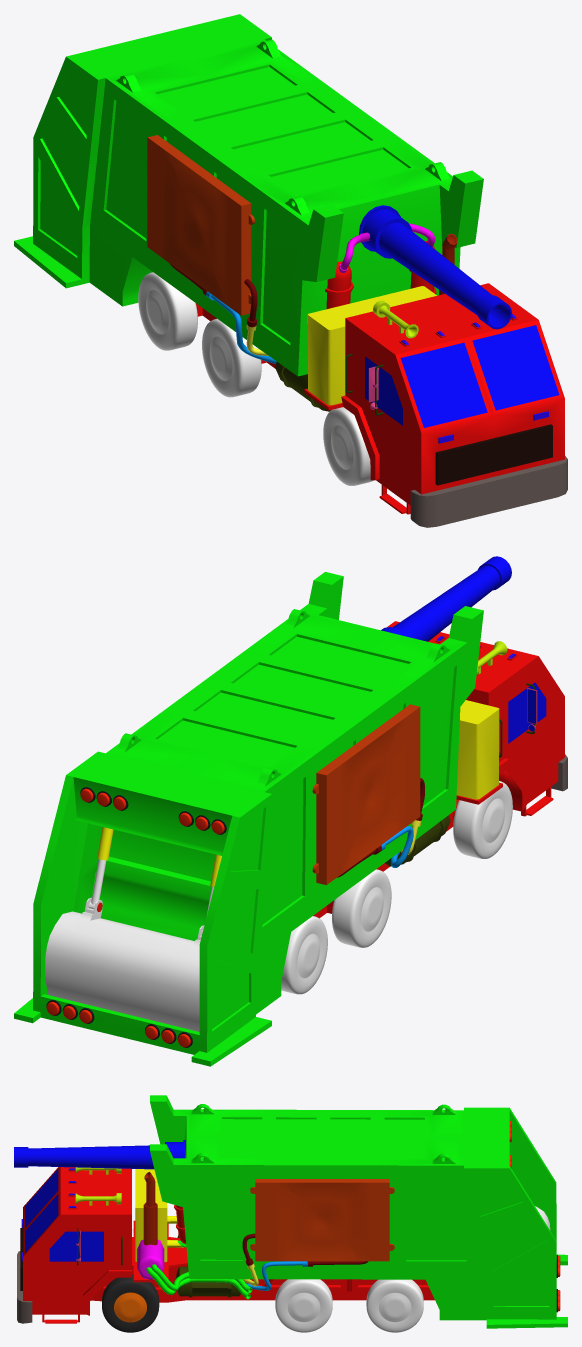
The model's file is camion poubelle ben.fbx.
The picture shows the model from 3 angles, top to bottom: view 1: azimuth 30°, elevation 25°; view 2: azimuth 150°, elevation 25°; view 3: azimuth 270°, elevation 25°; orthographic projection. The views are drawn at different scales.
Parts seen in each view (by area): view 1: Benne, Camion ben, Pneu004, Pneu003, Pneu005; view 2: Benne, Camion ben, couvercle benne, Pneu003, Pneu005, Pneu004, lumière; view 3: Benne, Camion ben, Pneu, Pneu001, Pneu002, lumière.
Boxes of the visible parts, x1,y1,x2,y2 form: Benne: [14, 14, 511, 376]; Camion ben: [195, 233, 567, 527]; Pneu004: [138, 272, 197, 350]; Pneu003: [202, 318, 261, 397]; Pneu005: [323, 407, 373, 485]; Benne: [14, 556, 511, 1066]; Camion ben: [313, 621, 567, 918]; couvercle benne: [45, 897, 204, 1031]; Pneu003: [332, 869, 391, 947]; Pneu005: [453, 781, 512, 858]; Pneu004: [281, 916, 327, 994]; lumière: [46, 787, 226, 1047]; Benne: [14, 1095, 567, 1328]; Camion ben: [17, 1167, 434, 1323]; Pneu: [275, 1279, 332, 1332]; Pneu001: [366, 1279, 423, 1332]; Pneu002: [102, 1274, 159, 1332]; lumière: [509, 1120, 560, 1312].
Size of the model in its own units: 122 by 145 by 396.
